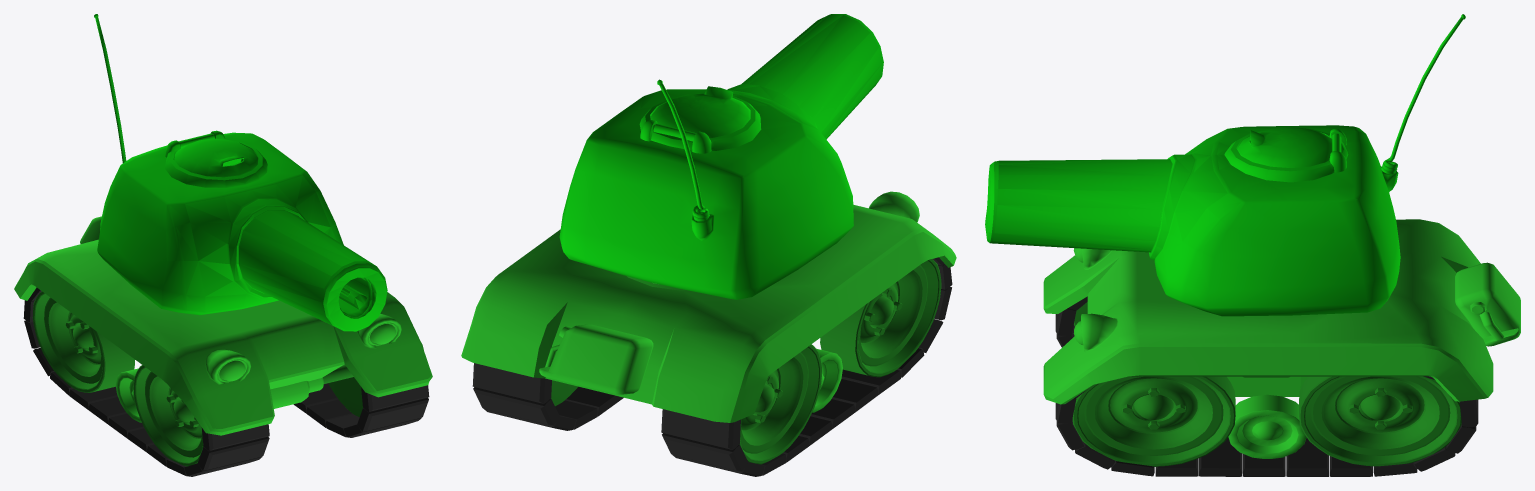
3 renders of one model, left to right at view 1: azimuth 30°, elevation 25°; view 2: azimuth 150°, elevation 25°; view 3: azimuth 270°, elevation 25°, orthographic. The views are drawn at different scales.
Parts seen in each view (by area): view 1: imagetostl_mesh3, imagetostl_mesh0, imagetostl_mesh1, imagetostl_mesh2; view 2: imagetostl_mesh3, imagetostl_mesh0, imagetostl_mesh1, imagetostl_mesh2; view 3: imagetostl_mesh3, imagetostl_mesh0, imagetostl_mesh2, imagetostl_mesh1.
Part boxes in pixels (bbox=[...]): imagetostl_mesh3: bbox=[94, 14, 387, 331]; imagetostl_mesh0: bbox=[14, 216, 432, 435]; imagetostl_mesh1: bbox=[23, 287, 269, 476]; imagetostl_mesh2: bbox=[293, 364, 429, 437]; imagetostl_mesh3: bbox=[559, 14, 883, 299]; imagetostl_mesh0: bbox=[461, 191, 956, 422]; imagetostl_mesh1: bbox=[661, 257, 952, 476]; imagetostl_mesh2: bbox=[472, 363, 623, 430]; imagetostl_mesh3: bbox=[985, 14, 1465, 316]; imagetostl_mesh0: bbox=[1043, 219, 1520, 458]; imagetostl_mesh2: bbox=[1055, 376, 1478, 476]; imagetostl_mesh1: bbox=[1055, 296, 1087, 347].
Bounding box in the file's own units: 148 × 198 × 253.
